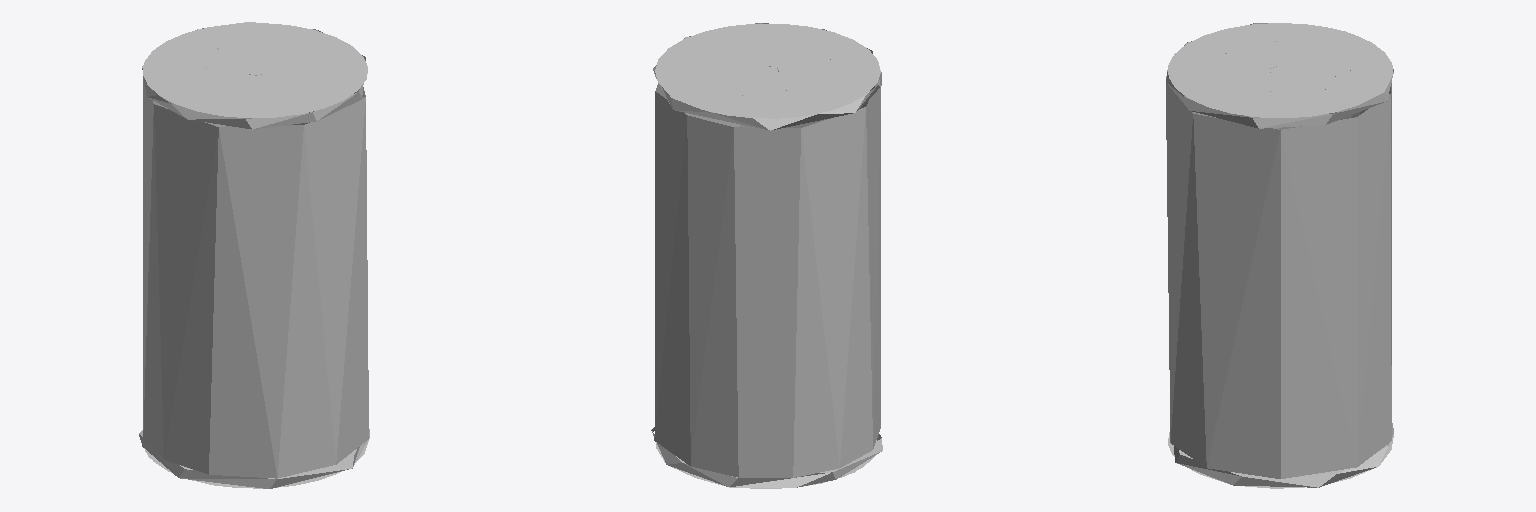
The model's file is escs_cylinder.obj.
3 renders of one model, left to right at view 1: azimuth 30°, elevation 25°; view 2: azimuth 150°, elevation 25°; view 3: azimuth 270°, elevation 25°, orthographic.
Size of the model in its own units: 0.1018 by 0.18 by 0.1007.